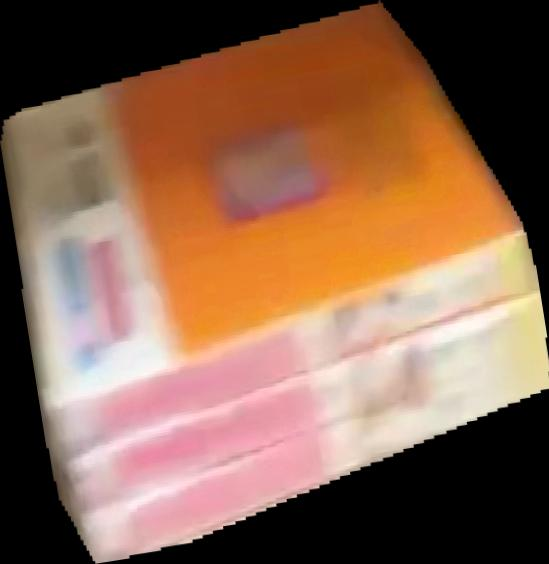flat: (1, 1, 549, 564)
